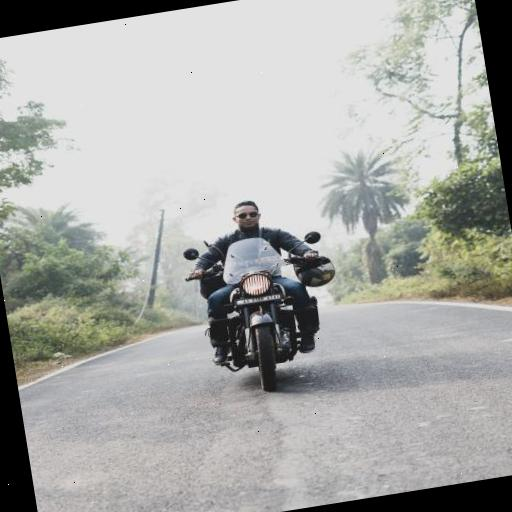no helmet: (166, 182, 348, 403)
